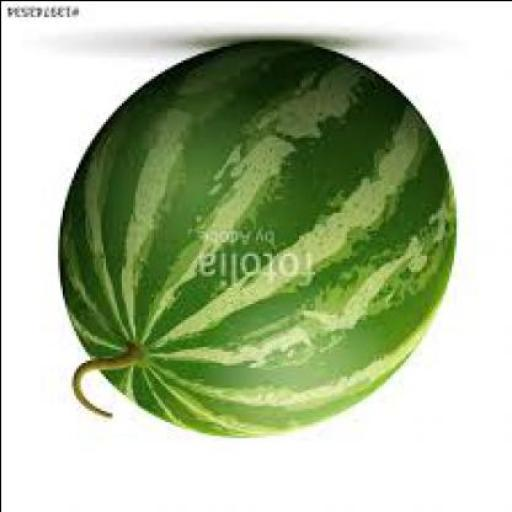biodegradable: (59, 43, 460, 442)
